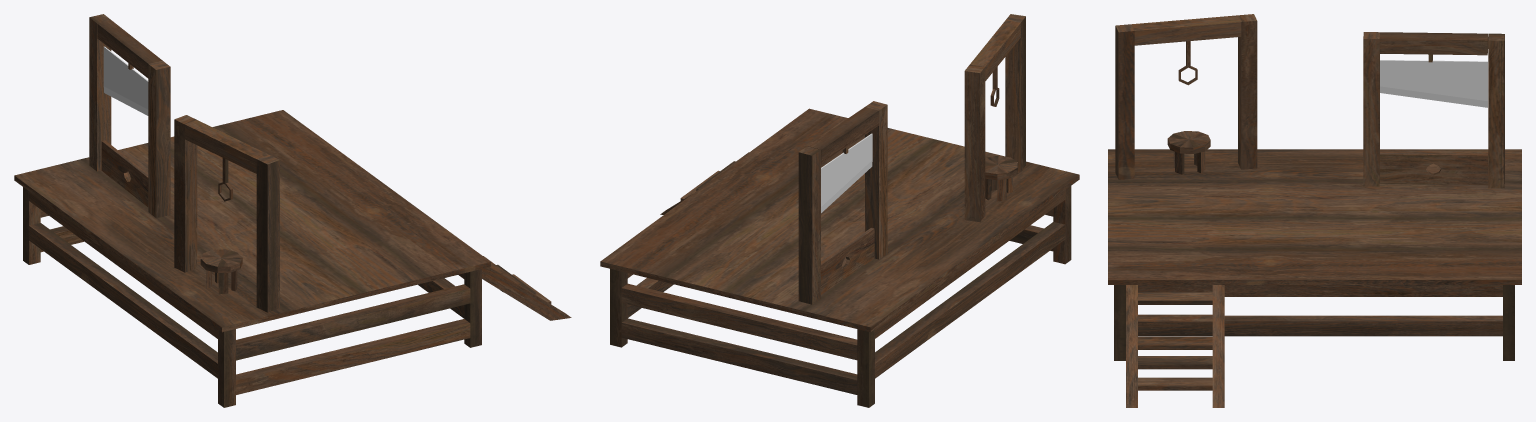
The model's file is exe.fbx.
The picture shows the model from 3 angles, left to right: view 1: azimuth 30°, elevation 25°; view 2: azimuth 150°, elevation 25°; view 3: azimuth 270°, elevation 25°; orthographic projection.
Visible parts, largest first — view 1: Execution; view 2: Execution; view 3: Execution.
Part boxes in pixels (x1,y1,x2,y2): Execution: [14, 14, 571, 407]; Execution: [600, 14, 1079, 407]; Execution: [1108, 14, 1521, 407].
Size of the model in its own units: 1900 by 1178 by 1905.
